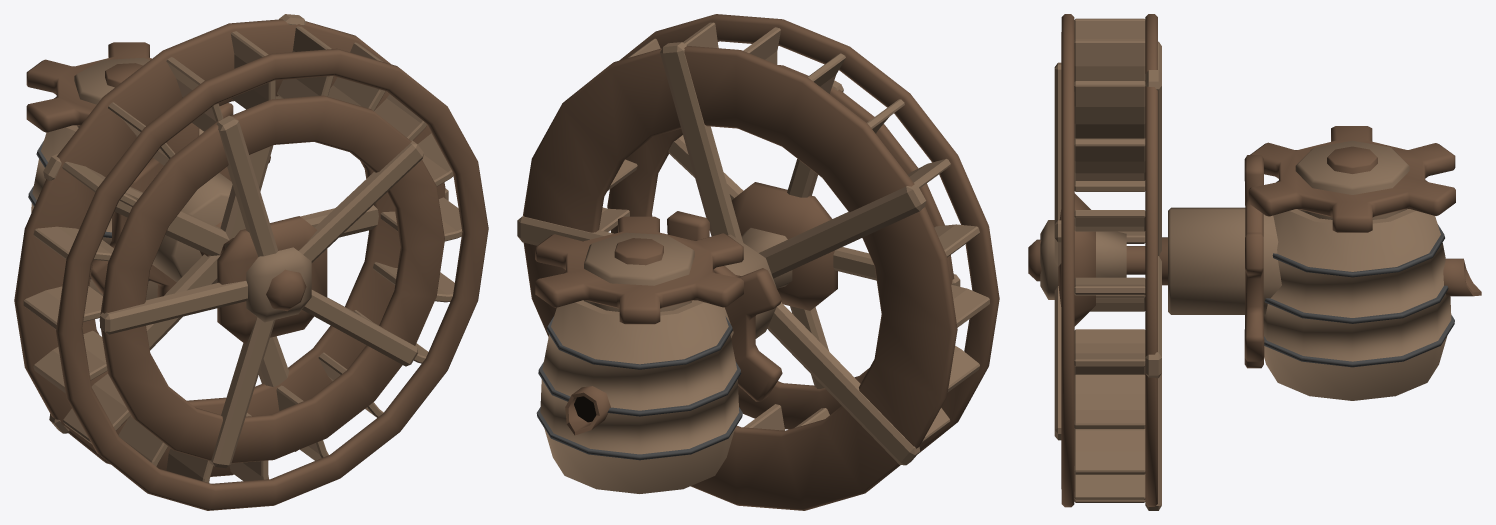
Rendered from Watermill.fbx.
3 views of the same model, side by side, from view 1: azimuth 30°, elevation 25°; view 2: azimuth 150°, elevation 25°; view 3: azimuth 270°, elevation 25° (orthographic).
Parts seen in each view (by area): view 1: Torus.002; view 2: Torus.002; view 3: Torus.002.
Part boxes in pixels (x1,y1,x2,y2): Torus.002: [14, 14, 488, 510]; Torus.002: [517, 14, 999, 510]; Torus.002: [1028, 14, 1481, 510].
Bounding box in the file's own units: 1.76 × 1.75 × 1.6.
